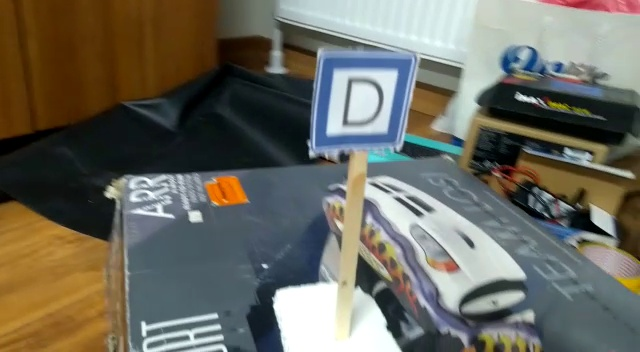durak: (314, 62, 399, 147)
